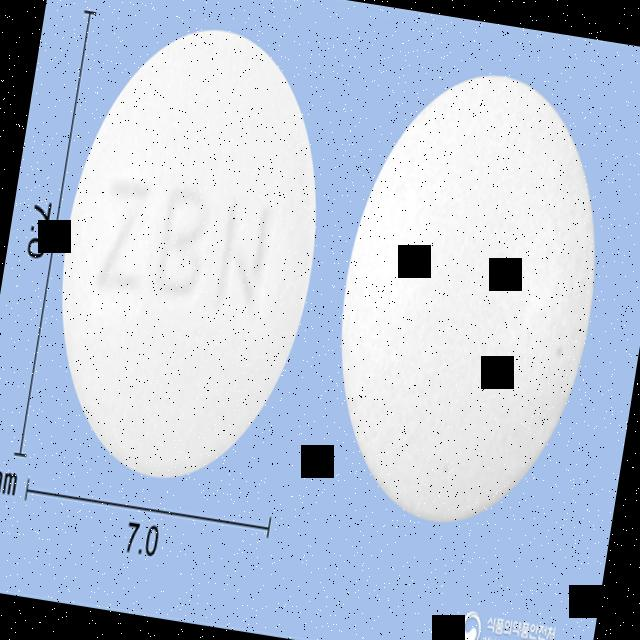Arava - 20mg: (30, 6, 350, 504)
